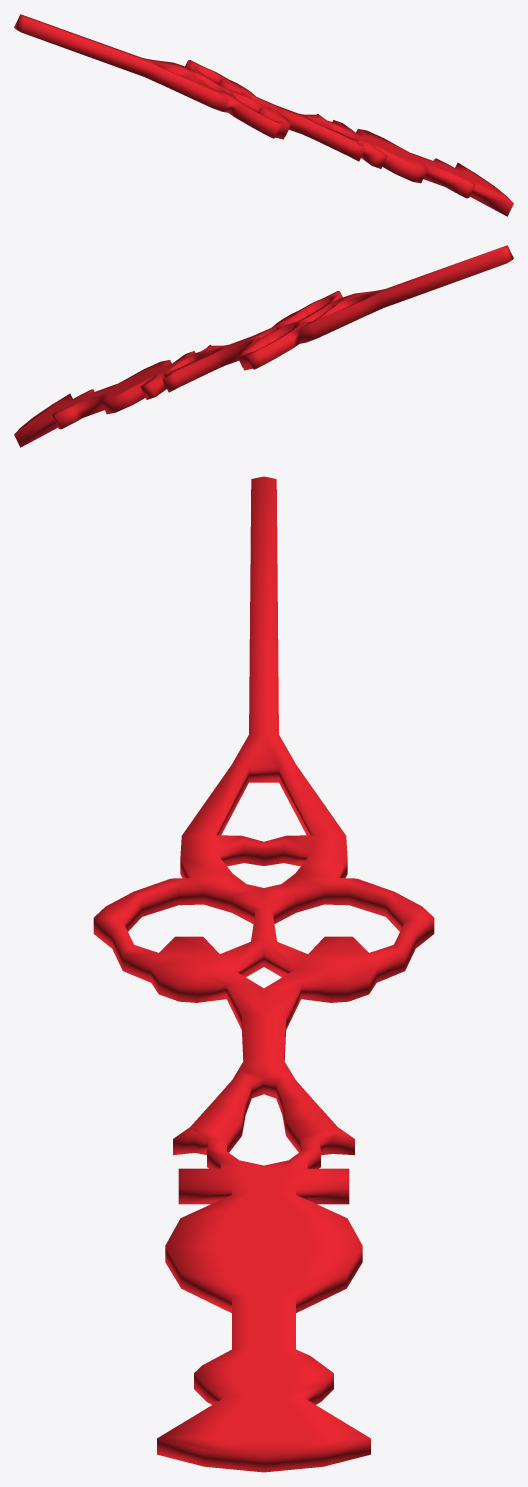
Rendered from M_Aiguilles_Heures_Horloge_Centrale.fbx.
3 views of the same model, one above another, from view 1: azimuth 30°, elevation 25°; view 2: azimuth 150°, elevation 25°; view 3: azimuth 270°, elevation 25° (orthographic). The views are drawn at different scales.
Parts seen in each view (by area): view 1: Aiguilles_Heures; view 2: Aiguilles_Heures; view 3: Aiguilles_Heures.
Part boxes in pixels (x1,y1,x2,y2): Aiguilles_Heures: (14, 14, 513, 216); Aiguilles_Heures: (14, 245, 513, 447); Aiguilles_Heures: (93, 476, 434, 1472).
Size of the model in its own units: 12.2 by 7.23 by 3.96.
